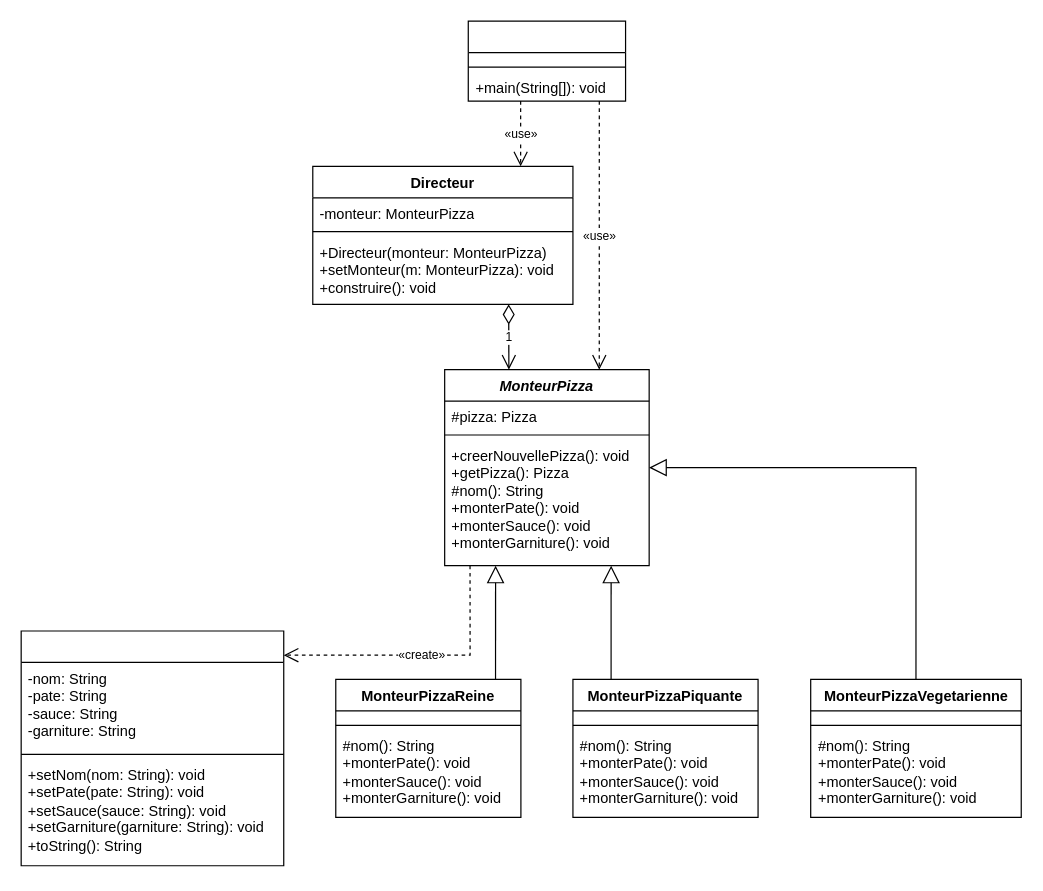
Image size: 1043x891. Some labels were removed from this diagram. The box of each missing label's shape, as (x1, y1, x2, y2) in pixels:
Client: (467, 20, 626, 101)
Pizza: (20, 630, 284, 866)
